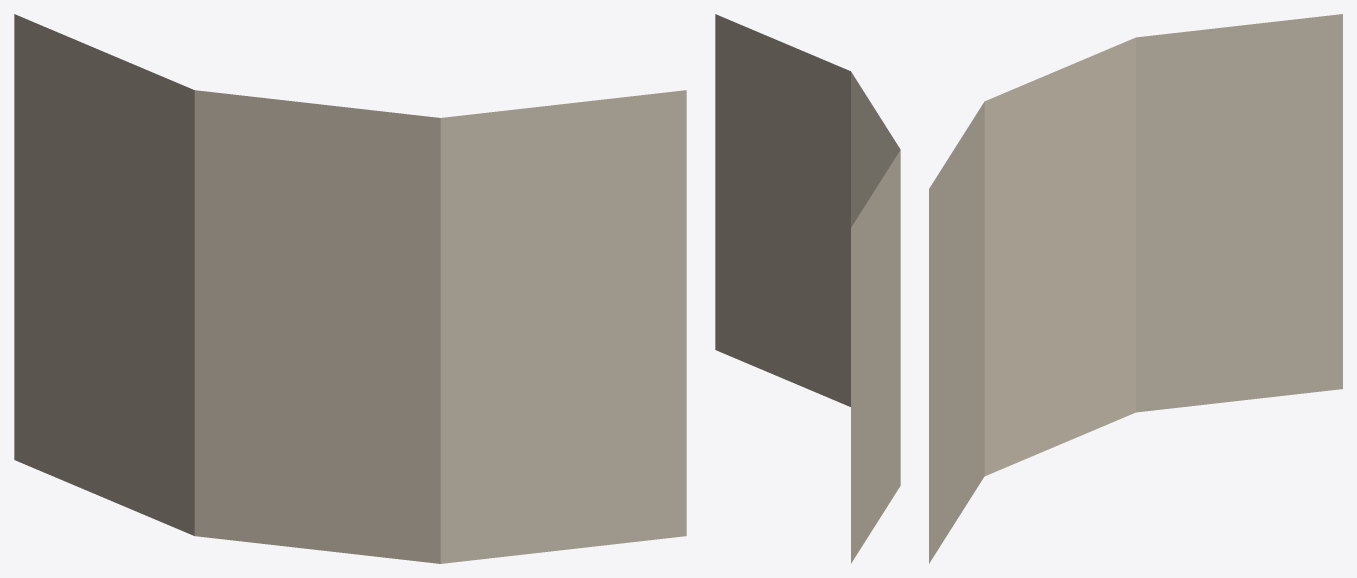
The model's file is Escarpment_Terrain_Corner_Inner_1x1_Mid.glb.
The picture shows the model from 3 angles, left to right: view 1: azimuth 30°, elevation 25°; view 2: azimuth 150°, elevation 25°; view 3: azimuth 270°, elevation 25°; orthographic projection. The views are drawn at different scales.
Parts seen in each view (by area): view 1: Escarpment_Terrain_Corner_Inner_1x1_Mid; view 2: Escarpment_Terrain_Corner_Inner_1x1_Mid; view 3: Escarpment_Terrain_Corner_Inner_1x1_Mid.
Boxes of the visible parts, bbox=[...] form: Escarpment_Terrain_Corner_Inner_1x1_Mid: bbox=[14, 14, 686, 563]; Escarpment_Terrain_Corner_Inner_1x1_Mid: bbox=[715, 14, 900, 563]; Escarpment_Terrain_Corner_Inner_1x1_Mid: bbox=[929, 14, 1342, 563].
Size of the model in its own units: 1 by 1 by 1.
